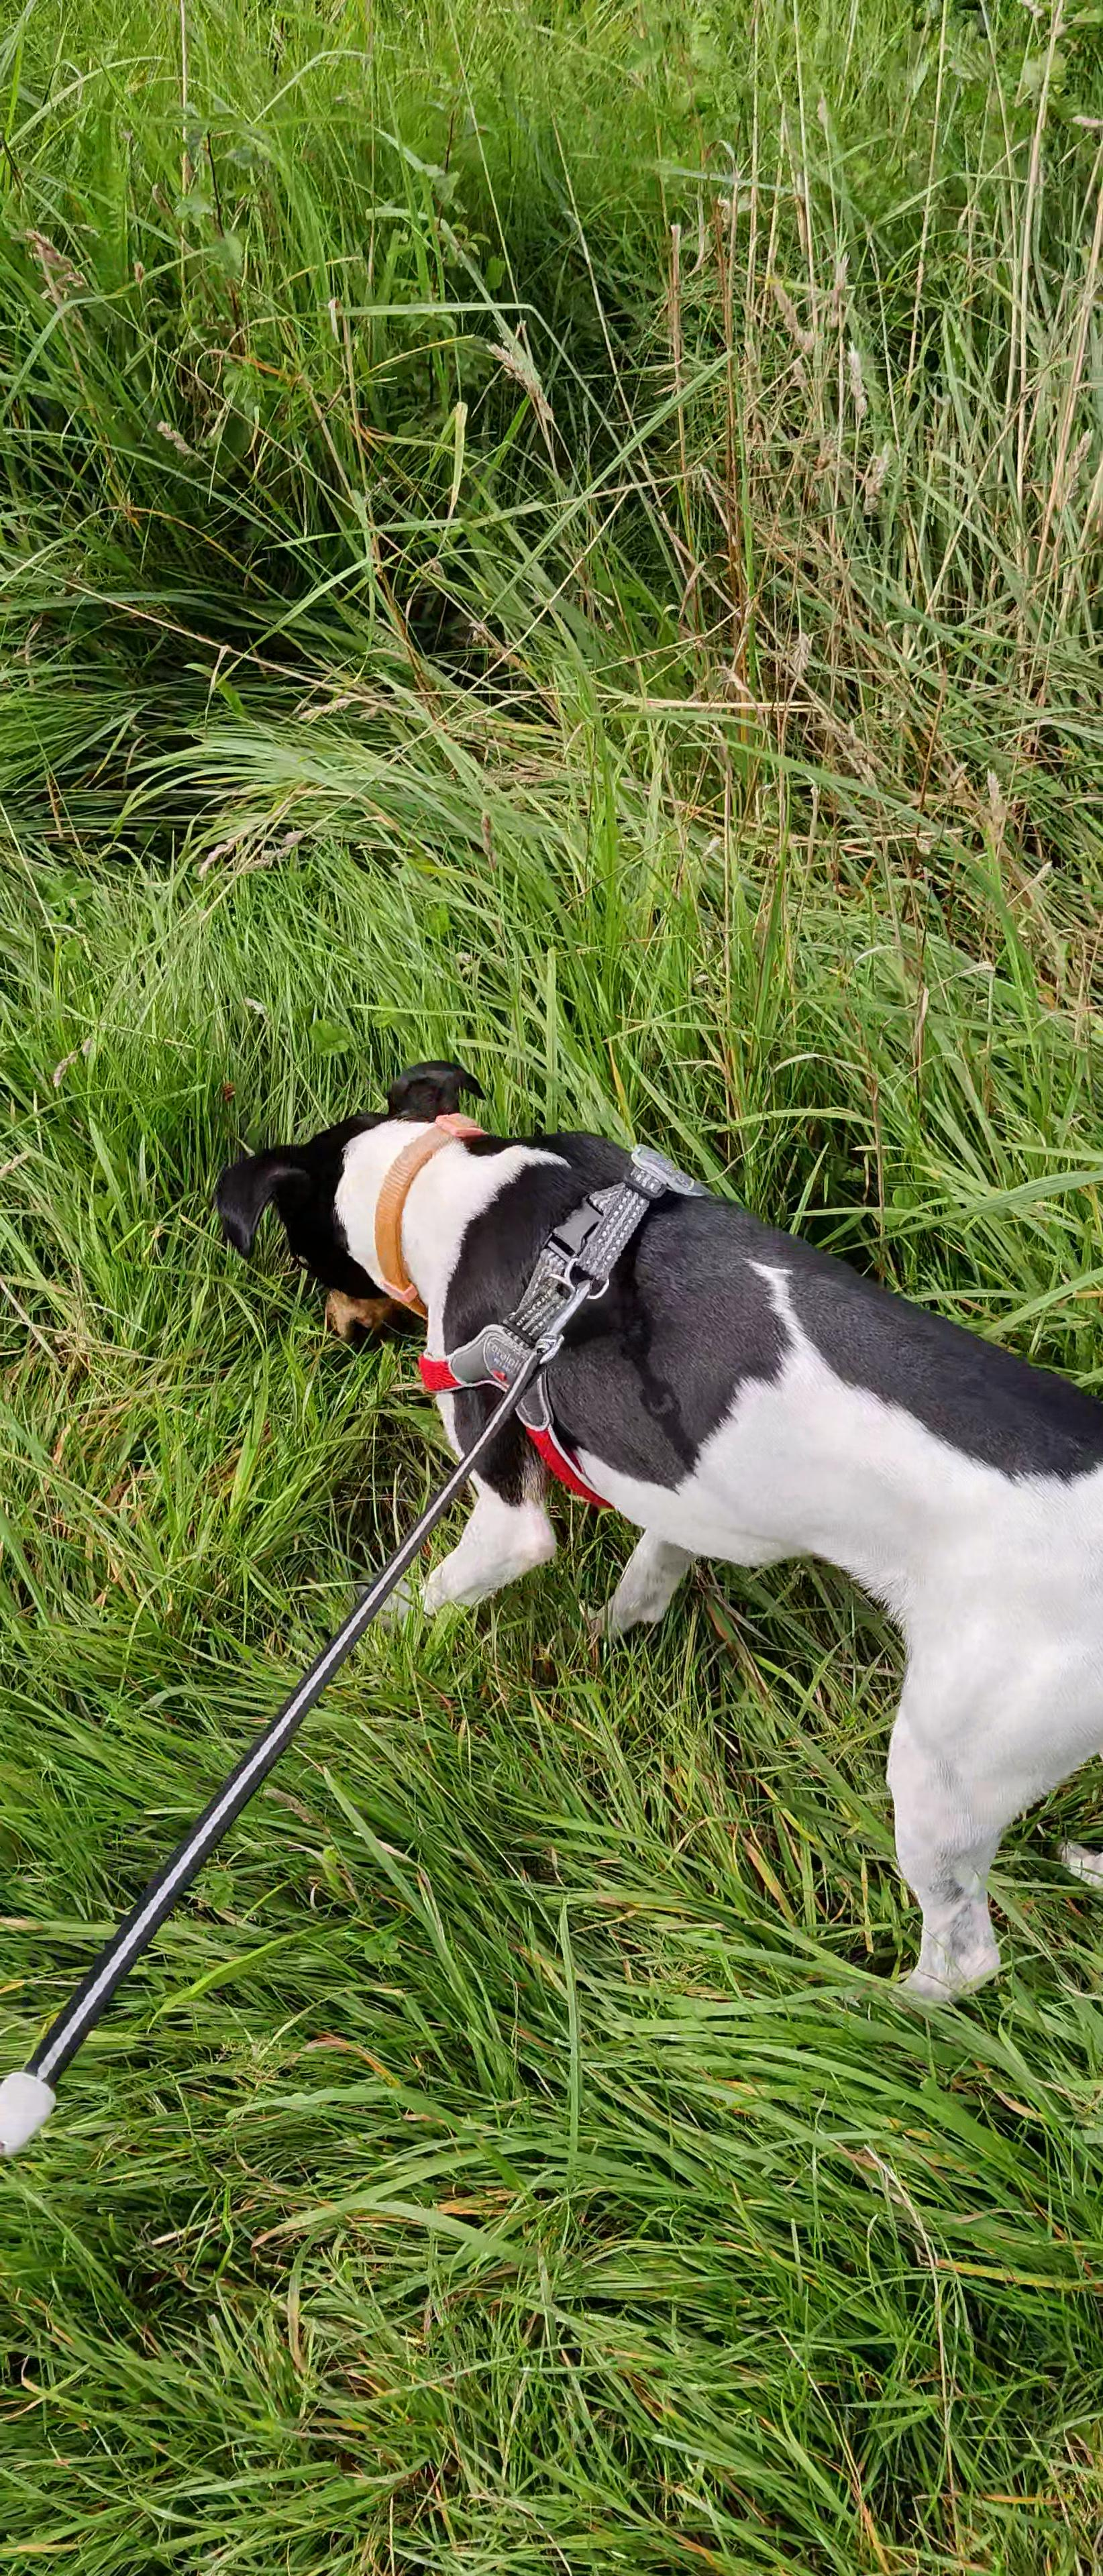Dog: (178, 1017, 1103, 2024)
